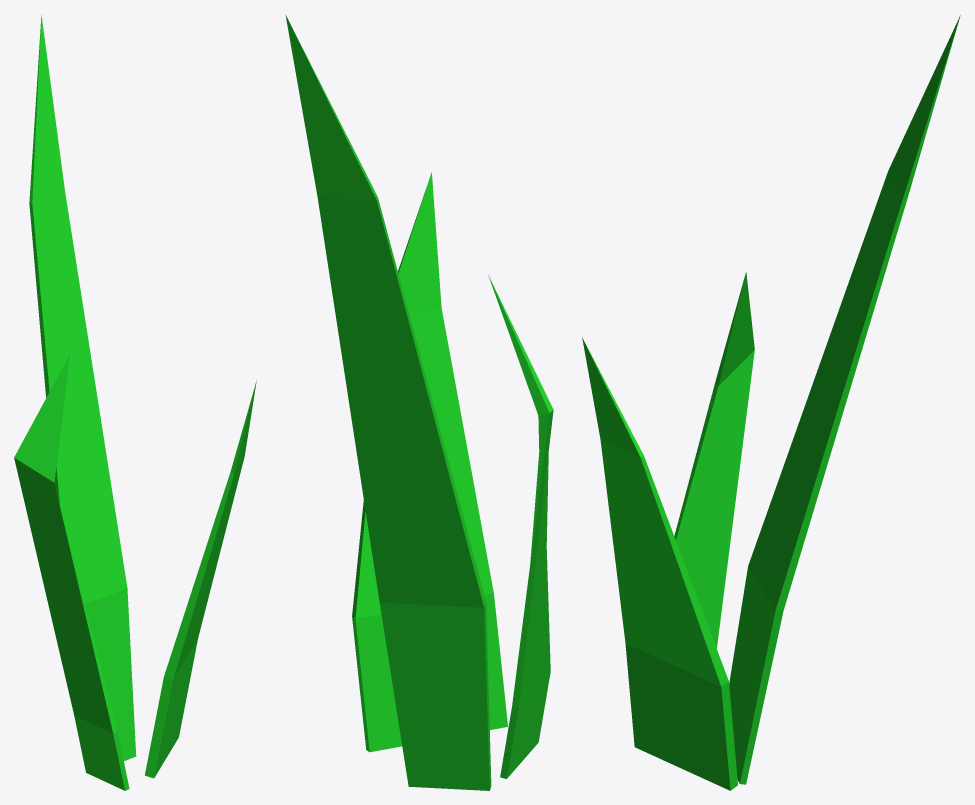
Rendered from grass4.fbx.
3 views of the same model, side by side, from view 1: azimuth 30°, elevation 25°; view 2: azimuth 150°, elevation 25°; view 3: azimuth 270°, elevation 25° (orthographic). The views are drawn at different scales.
Visible parts, largest first — view 1: Cube.002; view 2: Cube.002; view 3: Cube.002.
Boxes of the visible parts, <box> form: Cube.002: <box>14,14,256,790</box>; Cube.002: <box>285,15,553,790</box>; Cube.002: <box>582,15,960,790</box>.
Bounding box in the file's own units: 625 × 2201 × 979.
